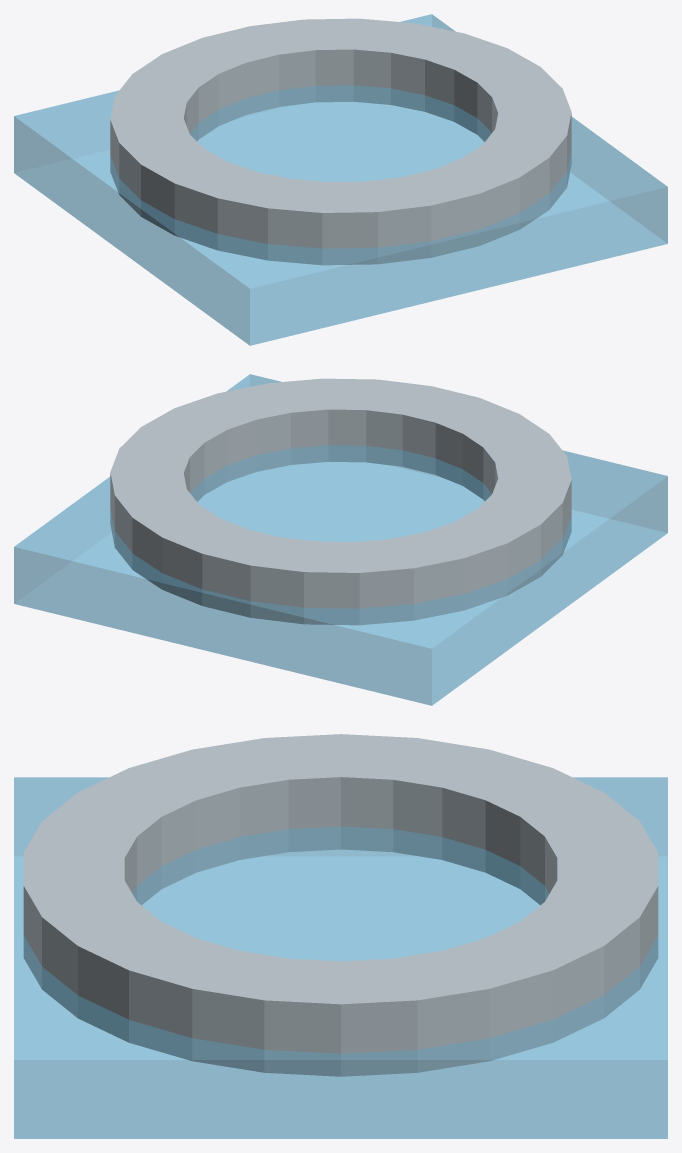
File: 39_L77_TransparentOpticalEndpointViewport.fbx
3 renders of one model, top to bottom at view 1: azimuth 30°, elevation 25°; view 2: azimuth 150°, elevation 25°; view 3: azimuth 270°, elevation 25°, orthographic. The views are drawn at different scales.
Parts seen in each view (by area): view 1: TransparentOpticalEndpointViewport_Part_0001, TransparentOpticalEndpointViewport_Part_0000; view 2: TransparentOpticalEndpointViewport_Part_0001, TransparentOpticalEndpointViewport_Part_0000; view 3: TransparentOpticalEndpointViewport_Part_0001, TransparentOpticalEndpointViewport_Part_0000.
Boxes of the visible parts, x1,y1,x2,y2 form: TransparentOpticalEndpointViewport_Part_0001: [110, 18, 571, 265]; TransparentOpticalEndpointViewport_Part_0000: [14, 14, 667, 345]; TransparentOpticalEndpointViewport_Part_0001: [110, 378, 571, 625]; TransparentOpticalEndpointViewport_Part_0000: [14, 374, 667, 705]; TransparentOpticalEndpointViewport_Part_0001: [23, 734, 658, 1076]; TransparentOpticalEndpointViewport_Part_0000: [14, 777, 667, 1138].
Size of the model in its own units: 46 by 9.75 by 45.
